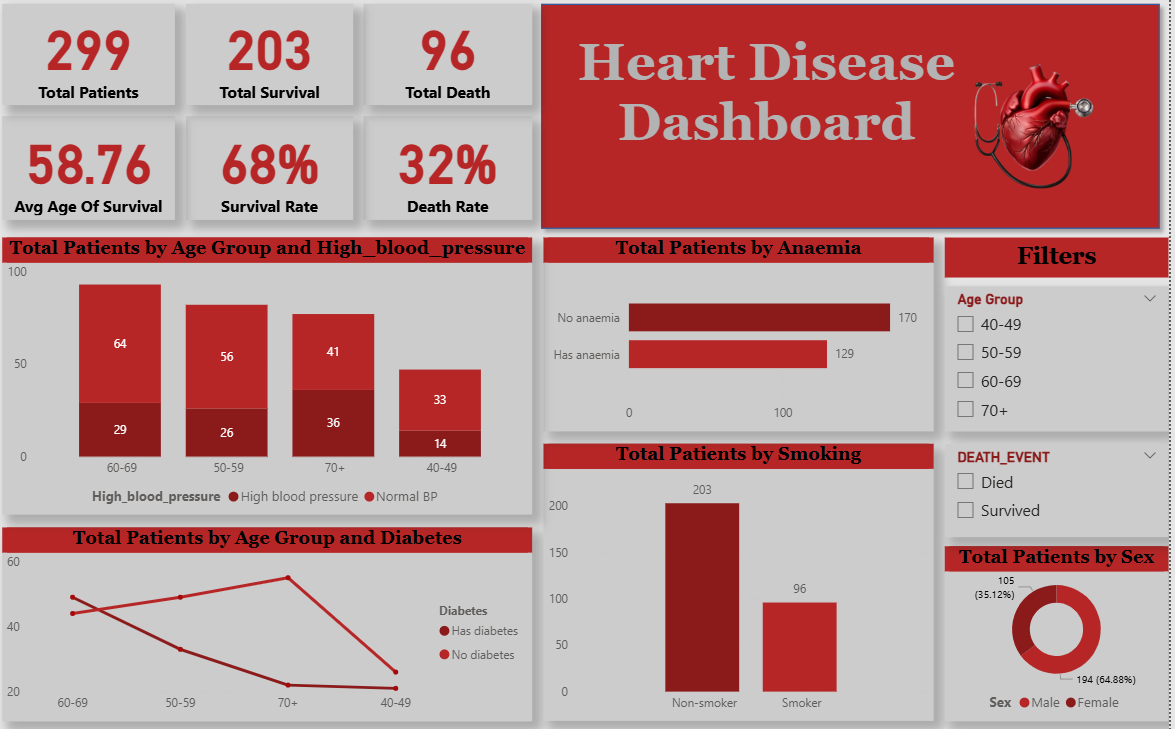

What the dashboard file says about the page in this screenshot:
{"tool":"powerbi","page":{"name":"Heart Disease","canvas":[1200,750],"ordinal":0},"visuals":[{"type":"shape","box":[551.5,0,648.4,247.1],"z":0},{"type":"textbox","box":[563,33.1,454.7,184.7],"z":1000},{"type":"image","box":[937.5,38.2,249.7,191.1],"z":2000},{"type":"card","fields":{"Values":["Dax Measures.Death Rate"]},"box":[379.6,123.6,172,105.7],"z":3000},{"type":"card","fields":{"Values":["Dax Measures.Survival Rate"]},"box":[198.7,123.6,170.7,105.7],"z":4000},{"type":"card","fields":{"Values":["Dax Measures.Avg Age Of Survival"]},"box":[11.5,123.6,175.8,105.7],"z":5000},{"type":"card","fields":{"Values":["Dax Measures.Total Death"]},"box":[379.6,8.9,172,103.2],"z":6000},{"type":"card","fields":{"Values":["Dax Measures.Total Patients"]},"box":[11.5,8.9,175.8,103.2],"z":7000},{"type":"card","fields":{"Values":["Dax Measures.Total Survival"]},"box":[198.7,8.9,170.7,103.2],"z":8000},{"type":"lineChart","fields":{"Category":["heart_Disease_clinical_records_.Age Group"],"Series":["heart_Disease_clinical_records_.Diabetes"],"Y":["Dax Measures.Total Patients"]},"box":[11.5,542.6,540.1,197.4],"z":9000},{"type":"columnChart","fields":{"Category":["heart_Disease_clinical_records_.Smoking"],"Y":["Dax Measures.Total Patients"]},"box":[563,457.3,397.4,282.8],"z":10000},{"type":"donutChart","fields":{"Category":["heart_Disease_clinical_records_.Sex"],"Y":["Dax Measures.Total Patients"]},"box":[971.9,561.7,228,178.3],"z":11000},{"type":"barChart","fields":{"Category":["heart_Disease_clinical_records_.Anaemia"],"Y":["Dax Measures.Total Patients"]},"box":[563,247.1,397.4,197.4],"z":12000},{"type":"columnChart","fields":{"Category":["heart_Disease_clinical_records_.Age Group"],"Y":["Dax Measures.Total Patients"],"Series":["heart_Disease_clinical_records_.High_blood_pressure"]},"box":[11.5,247.1,540.1,282.8],"z":13000},{"type":"slicer","fields":{"Values":["heart_Disease_clinical_records_.Age Group"]},"box":[971.9,296.8,228,147.8],"z":14000},{"type":"slicer","fields":{"Values":["heart_Disease_clinical_records_.DEATH_EVENT"]},"box":[971.9,457.3,228,95.5],"z":15000},{"type":"textbox","box":[971.9,247.1,228,40.8],"z":16000}]}

Visuals, with their boxes in screenshot pixels (x1, y1, x2, y2), scaled from the page's 1200x750 canvas onto the 1175x729 screenshot:
shape: {"x1": 540, "y1": 0, "x2": 1174, "y2": 240}
textbox: {"x1": 551, "y1": 32, "x2": 996, "y2": 212}
image: {"x1": 918, "y1": 37, "x2": 1162, "y2": 223}
card - Dax Measures.Death Rate: {"x1": 372, "y1": 120, "x2": 540, "y2": 223}
card - Dax Measures.Survival Rate: {"x1": 195, "y1": 120, "x2": 362, "y2": 223}
card - Dax Measures.Avg Age Of Survival: {"x1": 11, "y1": 120, "x2": 183, "y2": 223}
card - Dax Measures.Total Death: {"x1": 372, "y1": 9, "x2": 540, "y2": 109}
card - Dax Measures.Total Patients: {"x1": 11, "y1": 9, "x2": 183, "y2": 109}
card - Dax Measures.Total Survival: {"x1": 195, "y1": 9, "x2": 362, "y2": 109}
lineChart - heart_Disease_clinical_records_.Age Group x heart_Disease_clinical_records_.Diabetes: {"x1": 11, "y1": 527, "x2": 540, "y2": 719}
columnChart - heart_Disease_clinical_records_.Smoking x Dax Measures.Total Patients: {"x1": 551, "y1": 444, "x2": 940, "y2": 719}
donutChart - heart_Disease_clinical_records_.Sex x Dax Measures.Total Patients: {"x1": 952, "y1": 546, "x2": 1174, "y2": 719}
barChart - heart_Disease_clinical_records_.Anaemia x Dax Measures.Total Patients: {"x1": 551, "y1": 240, "x2": 940, "y2": 432}
columnChart - heart_Disease_clinical_records_.Age Group x Dax Measures.Total Patients: {"x1": 11, "y1": 240, "x2": 540, "y2": 515}
slicer - heart_Disease_clinical_records_.Age Group: {"x1": 952, "y1": 288, "x2": 1174, "y2": 432}
slicer - heart_Disease_clinical_records_.DEATH_EVENT: {"x1": 952, "y1": 444, "x2": 1174, "y2": 537}
textbox: {"x1": 952, "y1": 240, "x2": 1174, "y2": 280}
